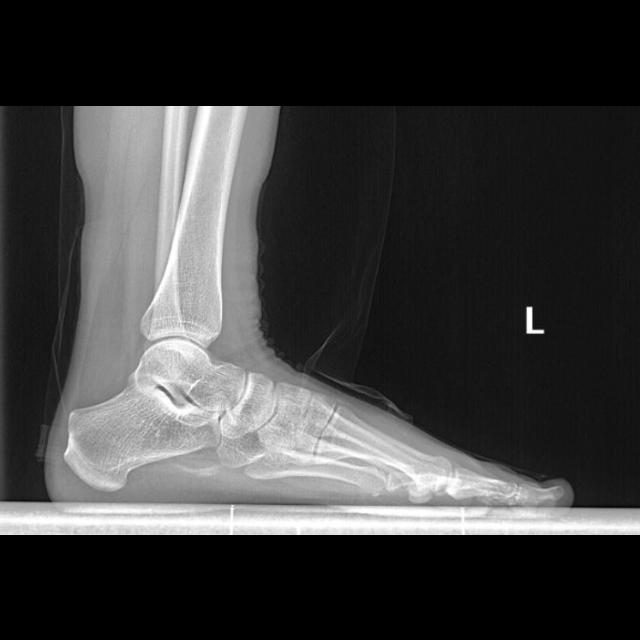a: (64, 381, 225, 492)
b: (222, 370, 276, 439)
c: (316, 405, 453, 503)
